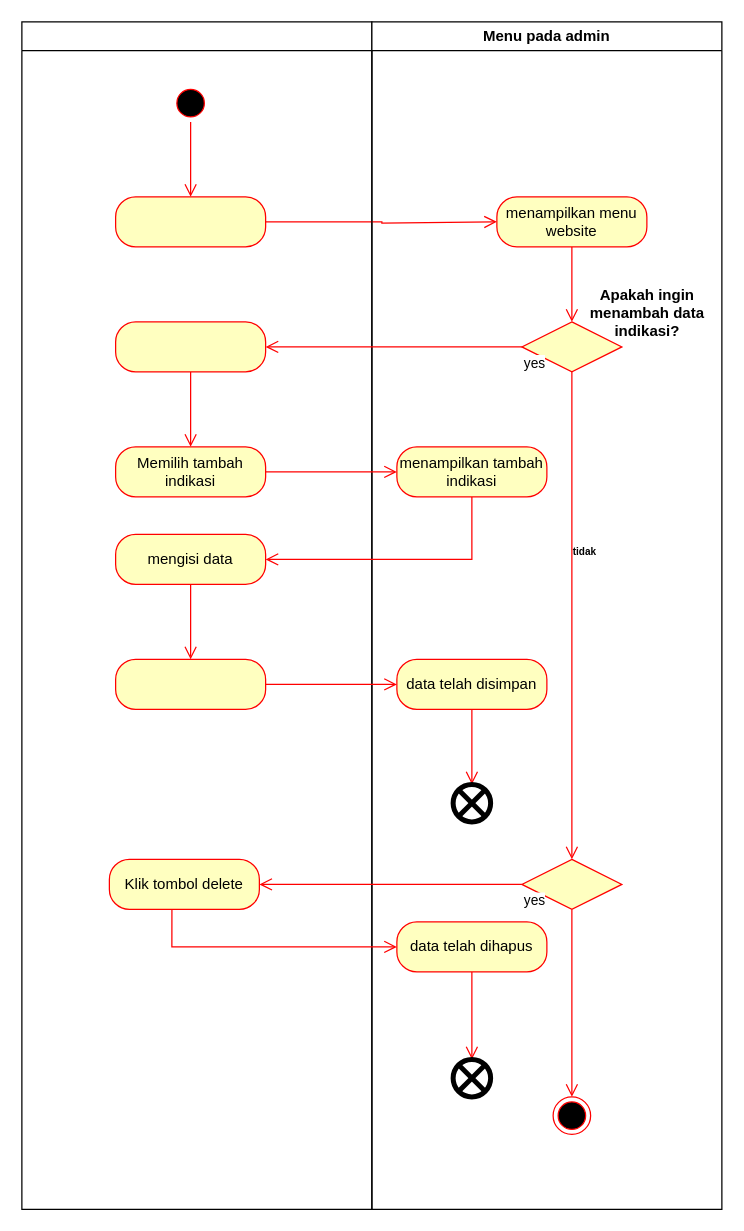
This 744x1231 diagram has some shape labels left out. The shapes that lost their labels are listed below. From the top down, each one's box as (x1, y1, x2, y2) in pixels, then its label:
(114, 196, 266, 247): Masuk menu
(114, 321, 266, 372): pilih menu indikasi
(21, 21, 372, 1209): Admin
(114, 658, 266, 709): klik simpan
